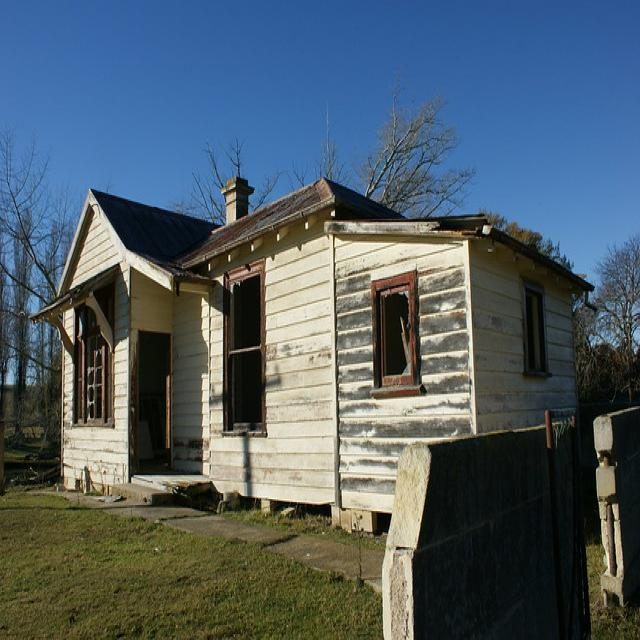Normal_building: (29, 169, 594, 546)
